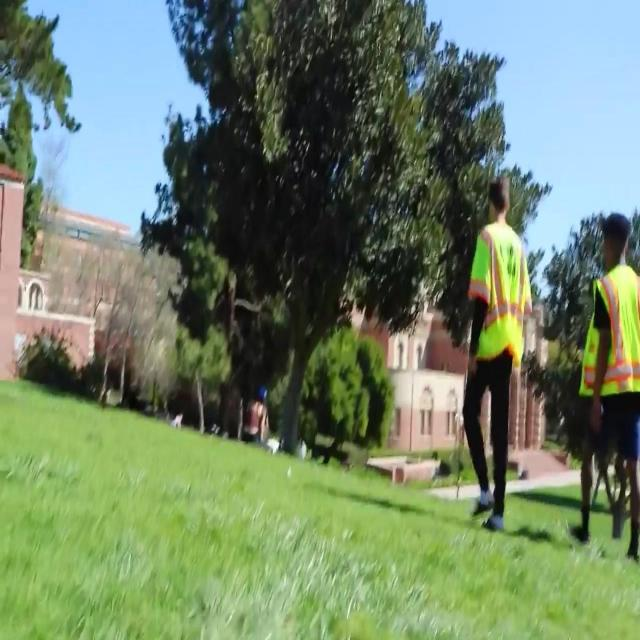Reflective-Jacket: (462, 218, 538, 378), (575, 260, 640, 423)
